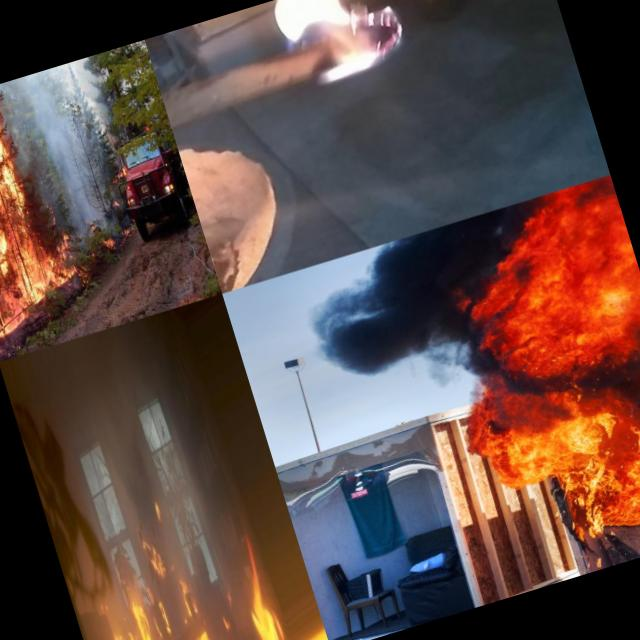fire: (410, 173, 640, 593), (66, 461, 296, 640), (251, 0, 435, 113), (0, 85, 62, 331), (42, 233, 82, 288), (93, 231, 118, 256), (117, 217, 137, 241)
smoke: (266, 217, 510, 400), (0, 64, 109, 240), (62, 55, 119, 153)
